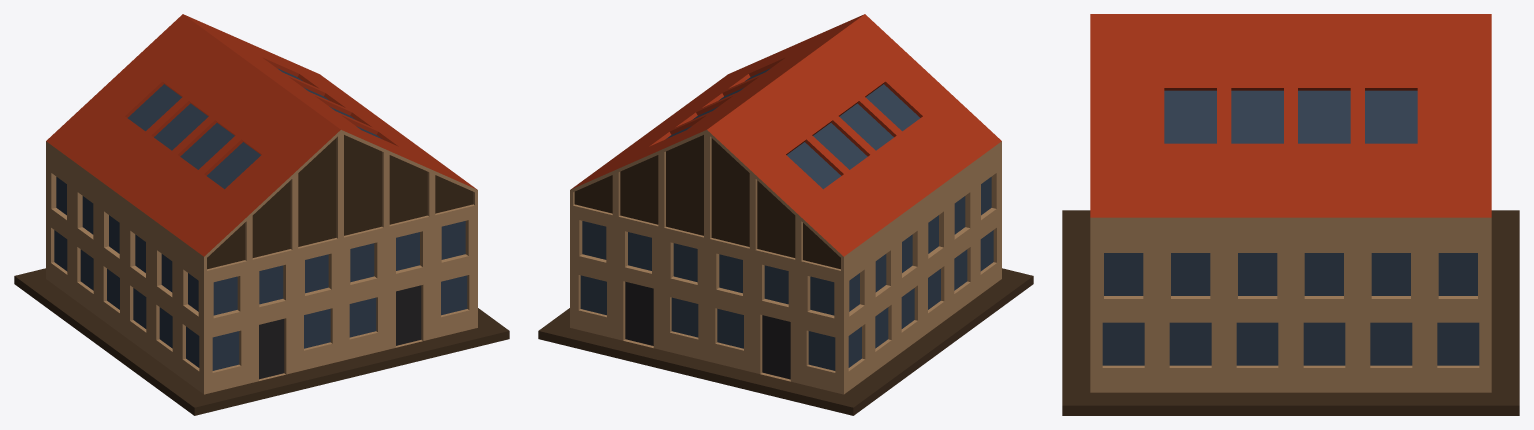
The model's file is building2_stage1.fbx.
The picture shows the model from 3 angles, left to right: view 1: azimuth 30°, elevation 25°; view 2: azimuth 150°, elevation 25°; view 3: azimuth 270°, elevation 25°; orthographic projection. The views are drawn at different scales.
Parts seen in each view (by area): view 1: Building2_Stage1; view 2: Building2_Stage1; view 3: Building2_Stage1.
Part boxes in pixels (x1,y1,x2,y2): Building2_Stage1: (14,14,509,415); Building2_Stage1: (538,14,1033,415); Building2_Stage1: (1062,14,1519,415).
Bounding box in the file's own units: 473 × 344 × 468.
